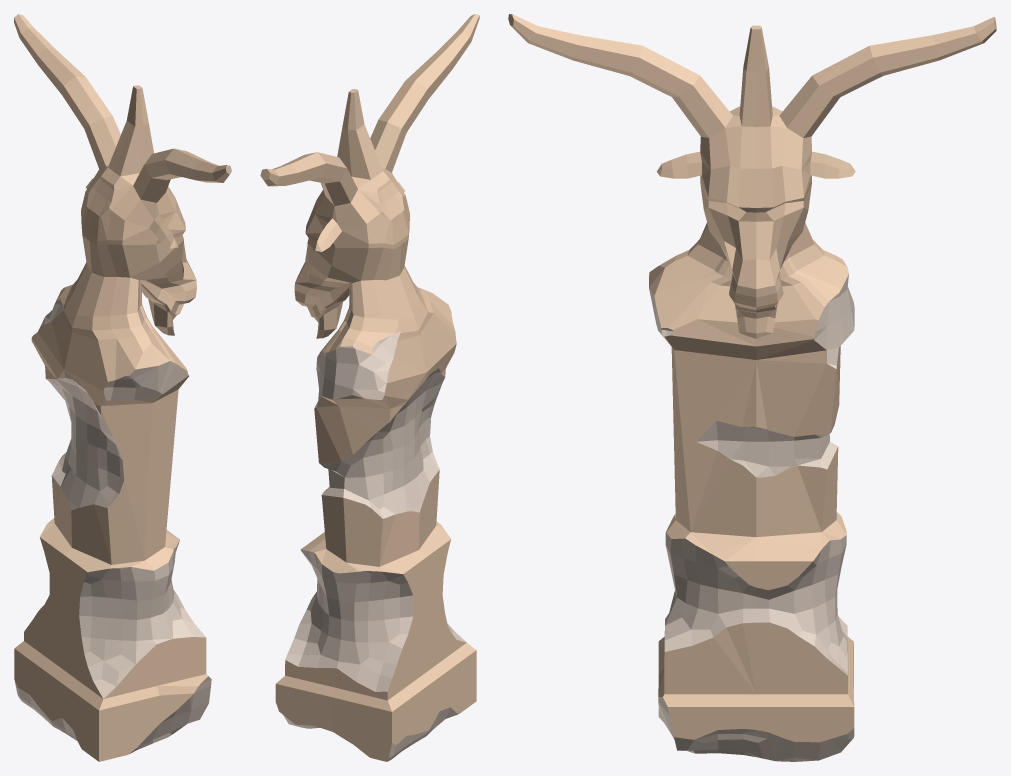
The model's file is statuette satanique .fbx.
3 renders of one model, left to right at view 1: azimuth 30°, elevation 25°; view 2: azimuth 150°, elevation 25°; view 3: azimuth 270°, elevation 25°, orthographic. The views are drawn at different scales.
Visible parts, largest first — view 1: Cube.007_dmg; view 2: Cube.007_dmg; view 3: Cube.007_dmg.
Part boxes in pixels (box(x1,y1,x2,y2)): Cube.007_dmg: box(14, 14, 231, 761); Cube.007_dmg: box(260, 14, 479, 761); Cube.007_dmg: box(508, 14, 996, 761).
Size of the model in its own units: 7.21 by 31.53 by 19.31.
